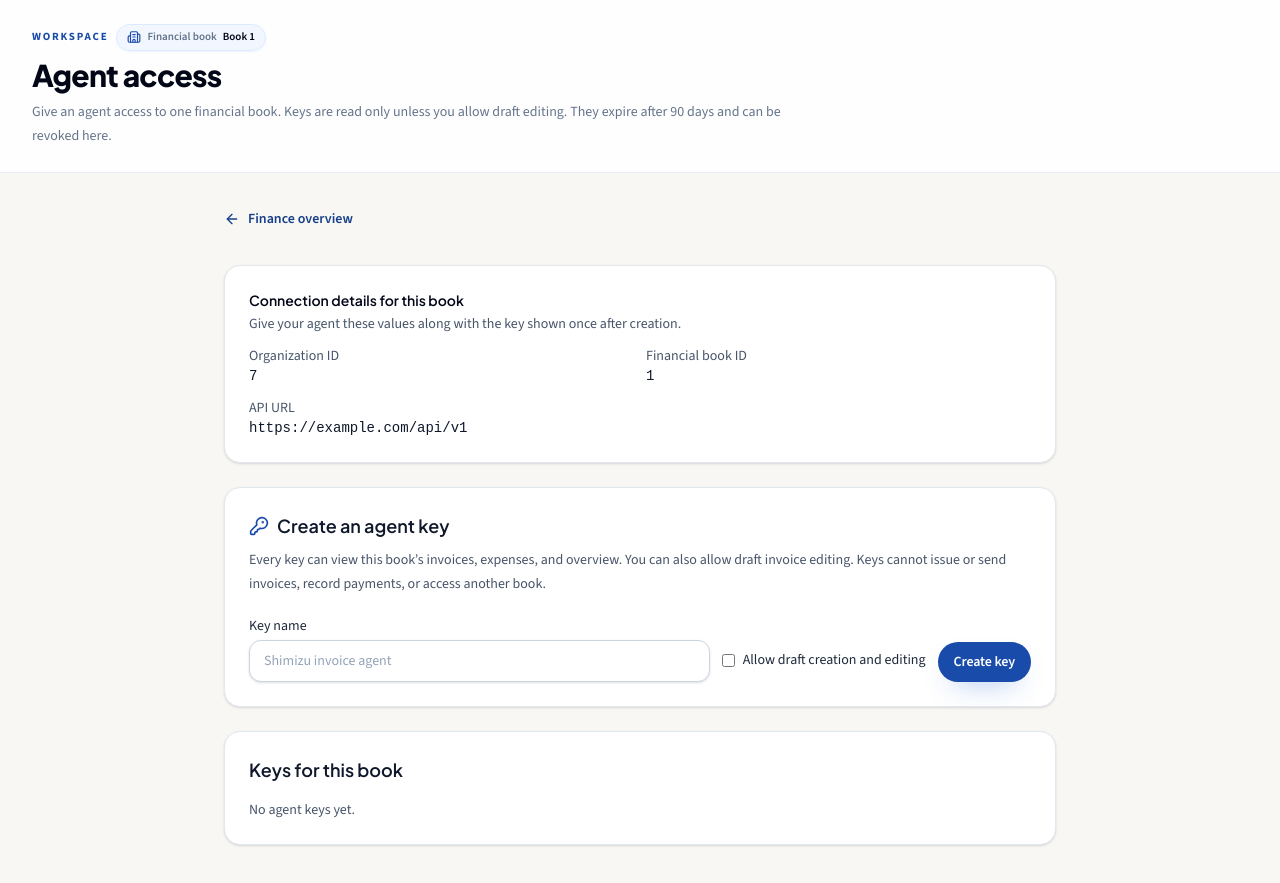
Scenario: FinanceAgentAccess › shows a new secret once and hides it after switching books
The image size is (1280, 883).
Expected: the text "No agent keys yet." is shown, [249,800,355,819]
In the field with placeholder "Shimizu invoice agent": (479, 661) [249,640,710,682], type "Test agent"
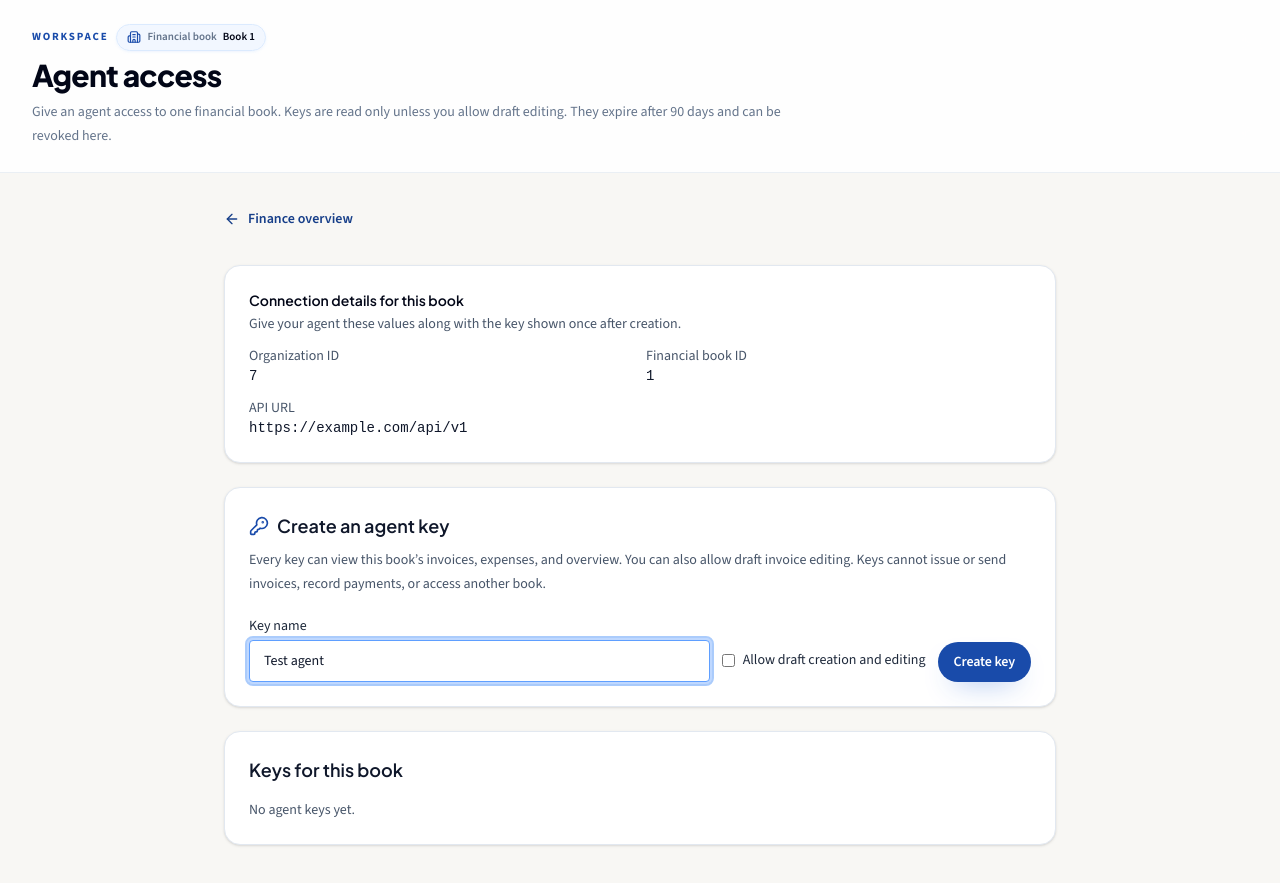
Click the checkbox labelled "Allow draft creation and editing": (728, 660) [722,654,735,666]
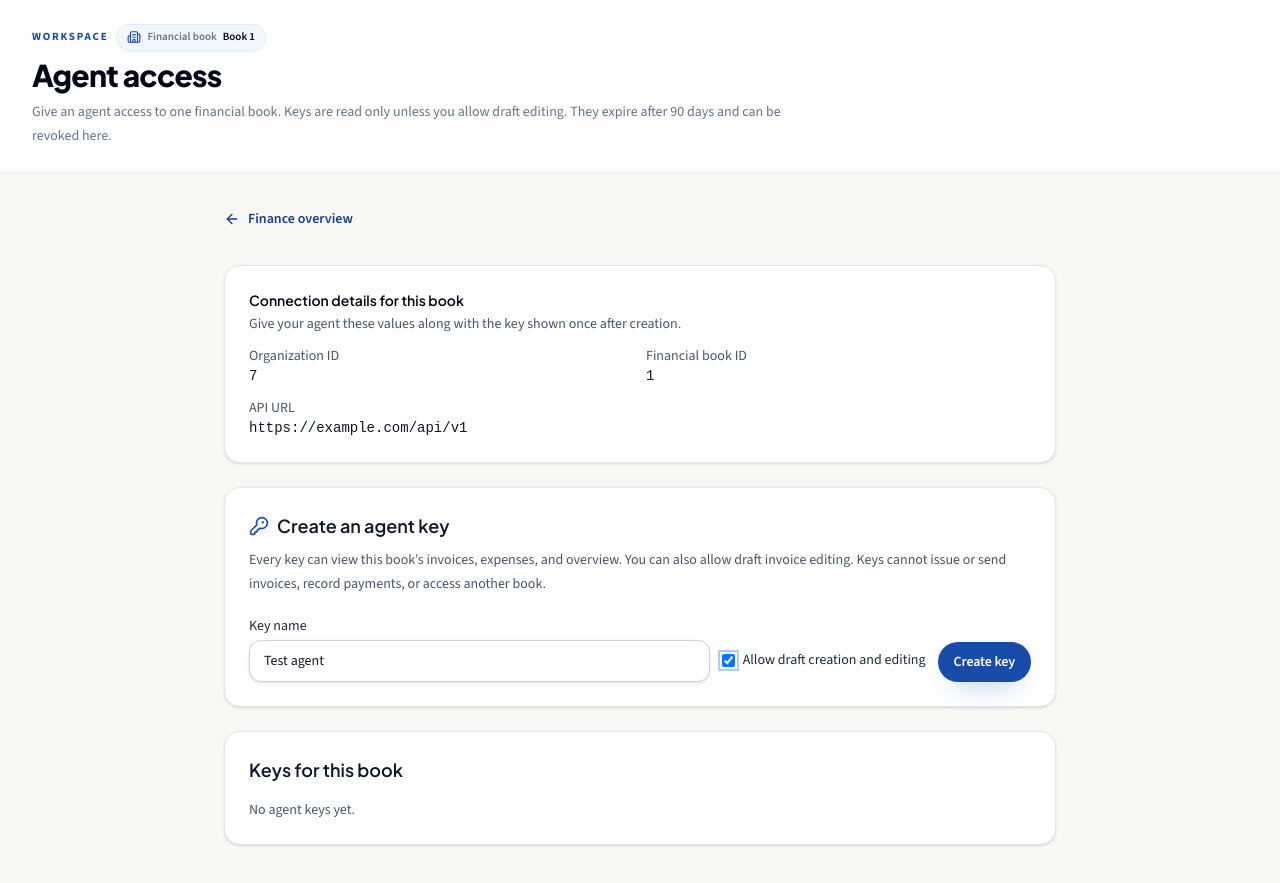
Click the button "Create key": (984, 662) [938,642,1031,682]
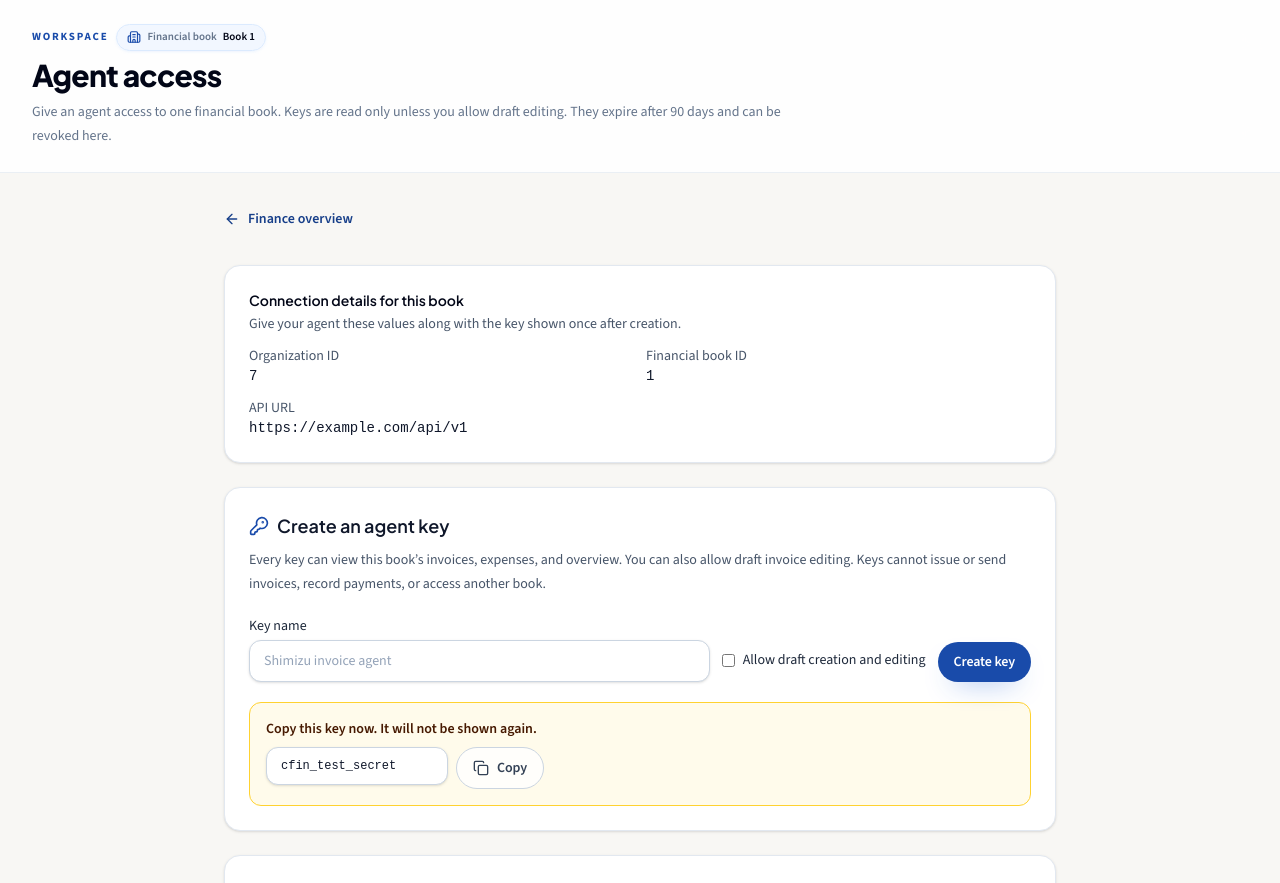
Expected: the field showing "cfin_test_secret" is shown, [266,747,448,785]
